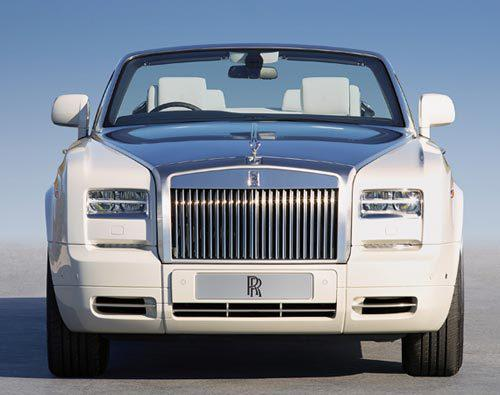Car: (22, 33, 487, 395)
